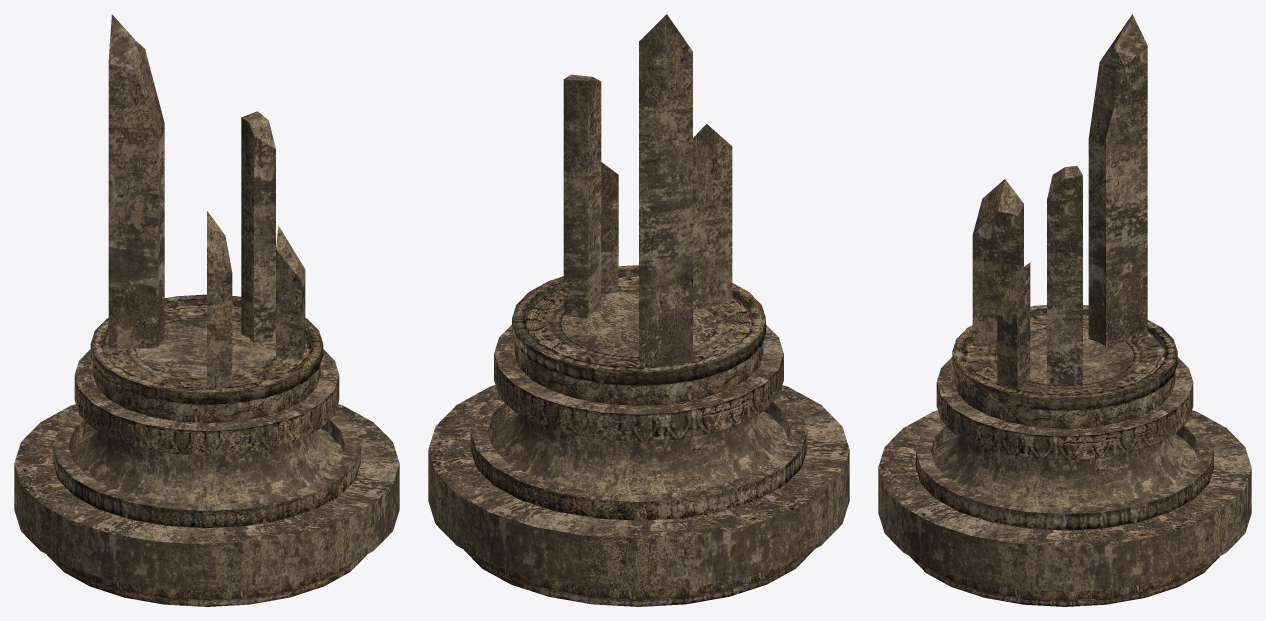
File: materials_5_roof_13.fbx
3 views of the same model, side by side, from view 1: azimuth 30°, elevation 25°; view 2: azimuth 150°, elevation 25°; view 3: azimuth 270°, elevation 25° (orthographic). The views are drawn at different scales.
Visible parts, largest first — view 1: materials_5_roof_13; view 2: materials_5_roof_13; view 3: materials_5_roof_13.
Boxes of the visible parts, <box> form: materials_5_roof_13: <box>14,14,399,606</box>; materials_5_roof_13: <box>428,14,849,606</box>; materials_5_roof_13: <box>878,14,1251,606</box>.
Size of the model in its own units: 277 by 407 by 277.
